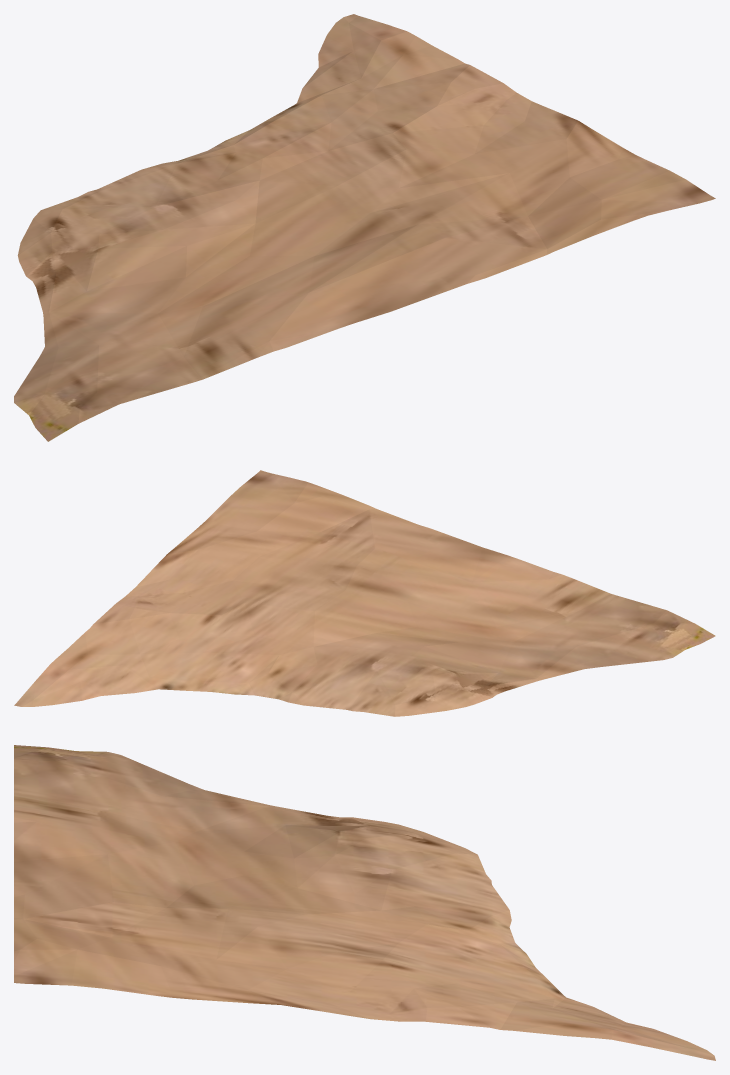
3 renders of one model, top to bottom at view 1: azimuth 30°, elevation 25°; view 2: azimuth 150°, elevation 25°; view 3: azimuth 270°, elevation 25°, orthographic. The views are drawn at different scales.
Bounding box in the file's own units: 0.684 × 0.0787 × 0.6422.
1 material, 1 textured.
